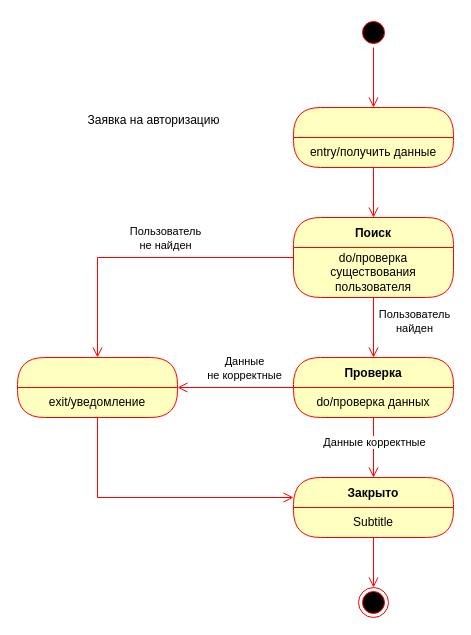
Some shapes in this 471 by 635 pixel diagram are drawn without their labels. Each missing label, with the box of its shape:
Открыто: (292, 106, 454, 168)
Ошибка: (16, 356, 178, 418)
